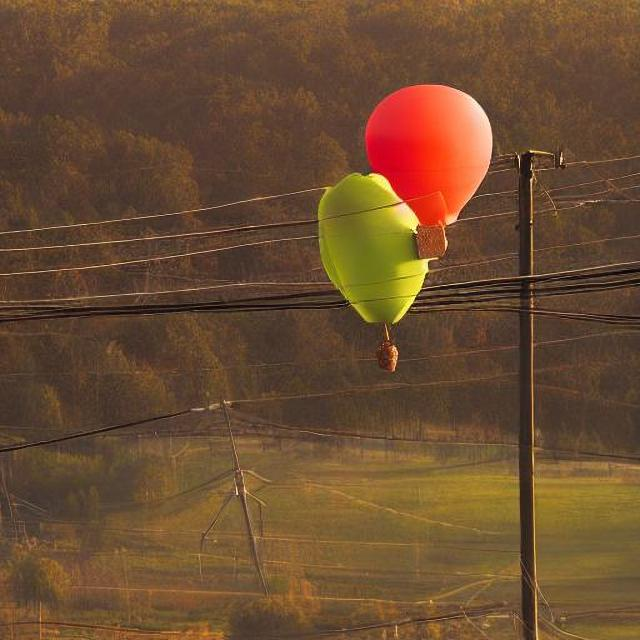balloon: (356, 78, 488, 230), (309, 187, 443, 330)
